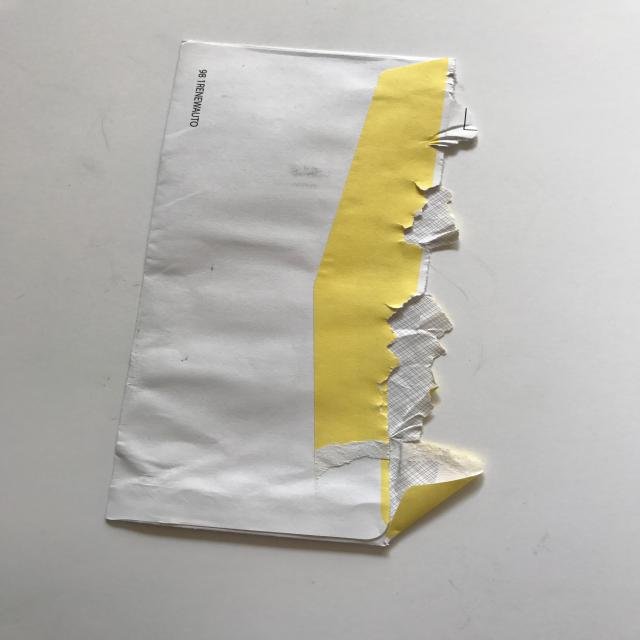Paper: (90, 23, 508, 573)
